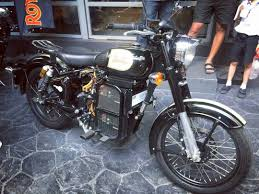bike: (23, 25, 253, 189)
